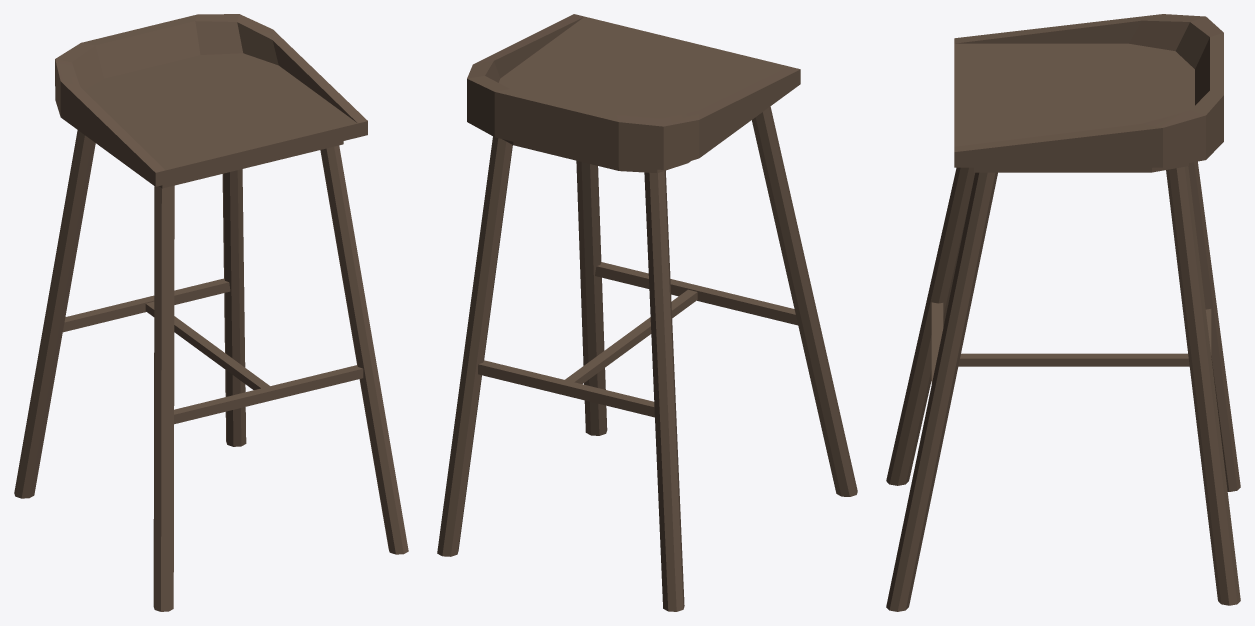
Rendered from Chair_3_231109.glb.
3 views of the same model, side by side, from view 1: azimuth 30°, elevation 25°; view 2: azimuth 150°, elevation 25°; view 3: azimuth 270°, elevation 25° (orthographic). The views are drawn at different scales.
Parts seen in each view (by area): view 1: Chair_3; view 2: Chair_3; view 3: Chair_3.
Boxes of the visible parts, x1=… form: Chair_3: x1=14, y1=14, x2=408, y2=611; Chair_3: x1=437, y1=14, x2=857, y2=611; Chair_3: x1=886, y1=14, x2=1240, y2=611.
Size of the model in its own units: 0.5493 by 0.9131 by 0.6068.
1 material, 1 textured.
